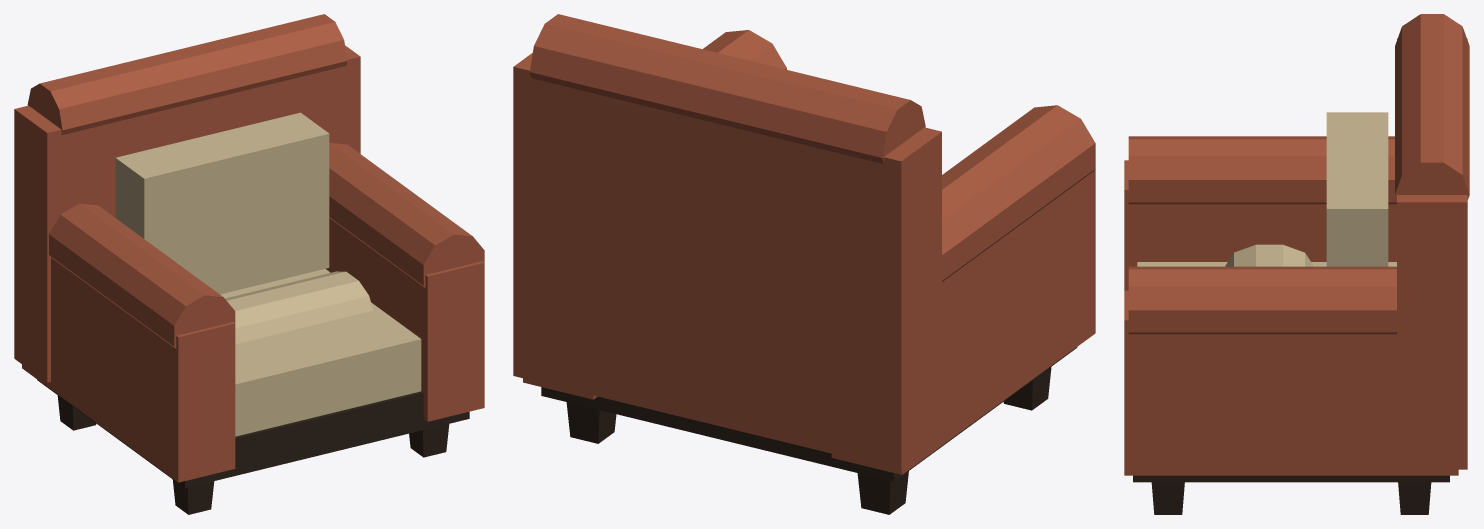
Rendered from armchair-980c7c.glb.
3 views of the same model, side by side, from view 1: azimuth 30°, elevation 25°; view 2: azimuth 150°, elevation 25°; view 3: azimuth 270°, elevation 25° (orthographic). The views are drawn at different scales.
Size of the model in its own units: 0.88 by 0.9008 by 0.785.
